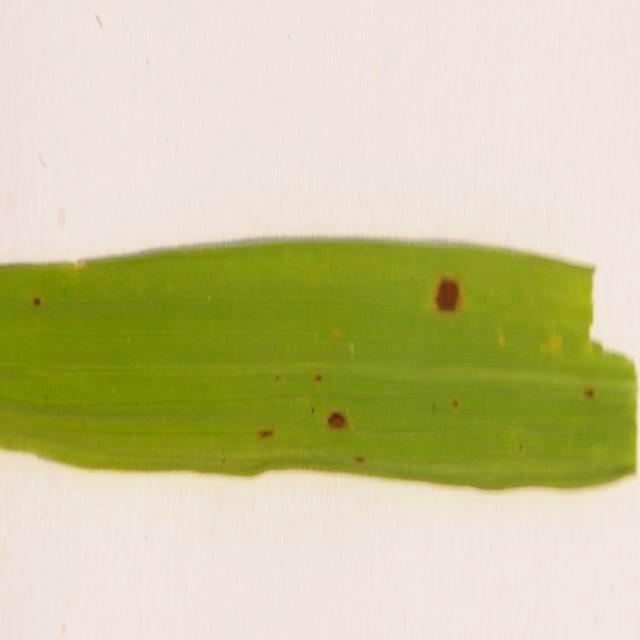Brownspot: (436, 278, 458, 311), (327, 412, 346, 428), (258, 428, 274, 439), (331, 327, 340, 341), (584, 387, 594, 398), (95, 13, 102, 28), (32, 296, 40, 306), (354, 455, 365, 462), (517, 442, 523, 453), (314, 373, 322, 381), (452, 398, 458, 407), (275, 375, 281, 382), (221, 457, 226, 463), (311, 406, 314, 413)
